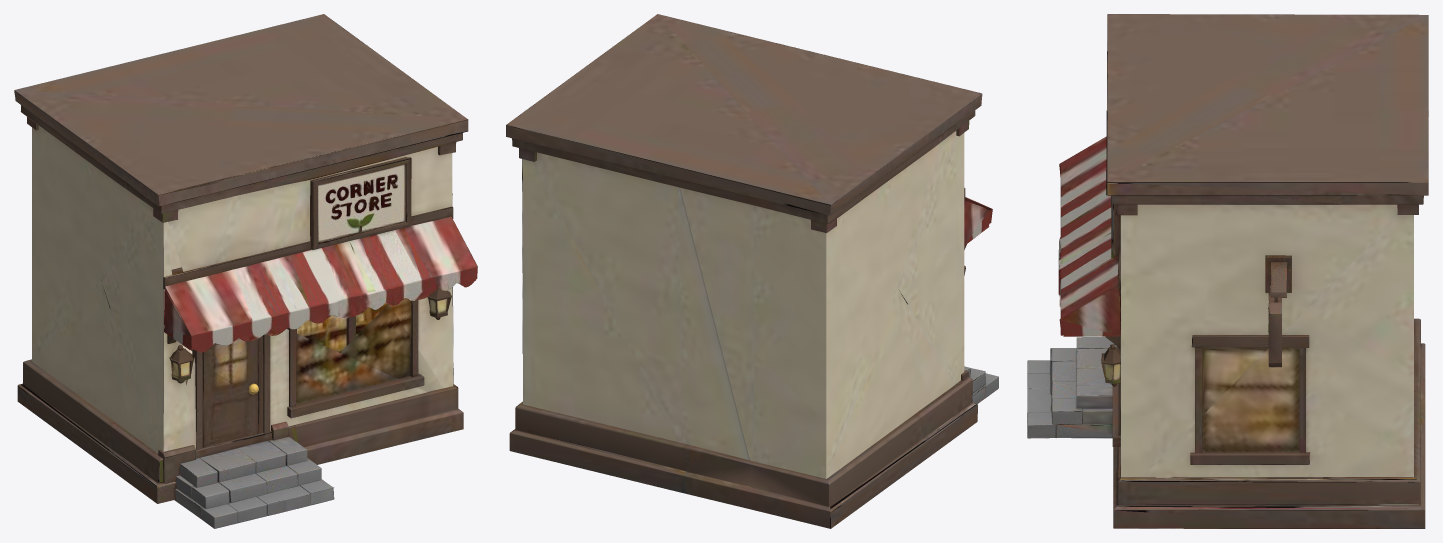
File: corner_store.glb
The picture shows the model from 3 angles, left to right: view 1: azimuth 30°, elevation 25°; view 2: azimuth 150°, elevation 25°; view 3: azimuth 270°, elevation 25°; orthographic projection. The views are drawn at different scales.
Parts seen in each view (by area): view 1: geometry_0; view 2: geometry_0; view 3: geometry_0.
Part boxes in pixels (x1,y1,x2,y2): geometry_0: (14, 14, 477, 528); geometry_0: (506, 14, 998, 528); geometry_0: (1027, 14, 1428, 528).
Bounding box in the file's own units: 0.957 × 0.7935 × 0.8276.
Materials: 1 (1 with a texture image).
